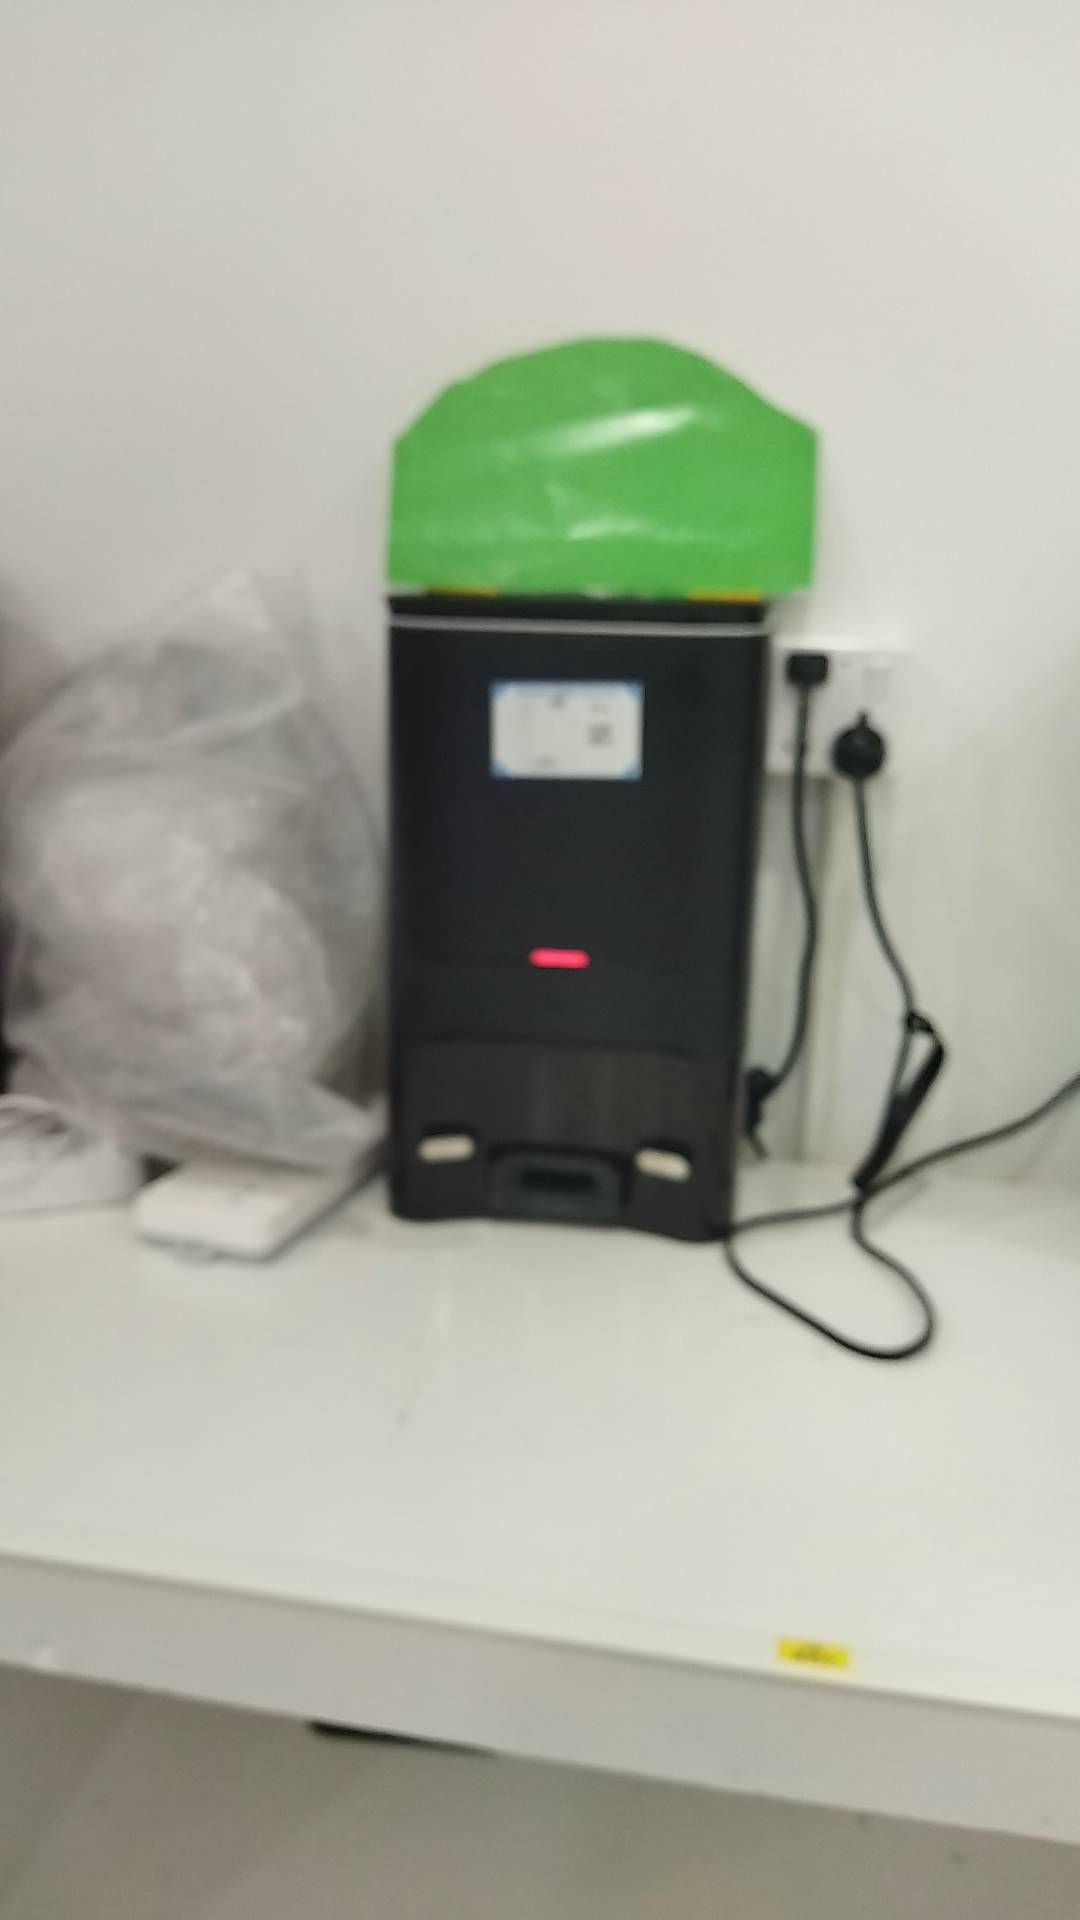dust collecting barrel: (382, 591, 770, 1244)
